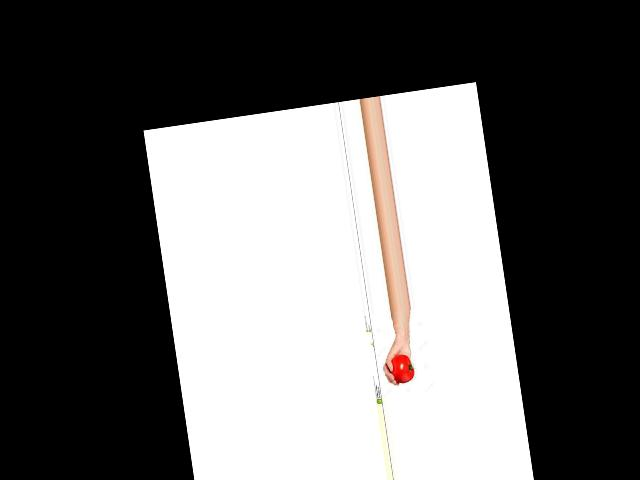tomato: (387, 352, 415, 384)
